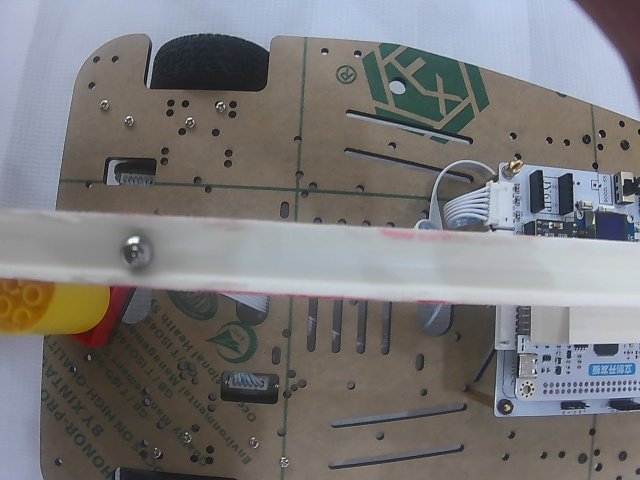steelball: (119, 234, 154, 268)
